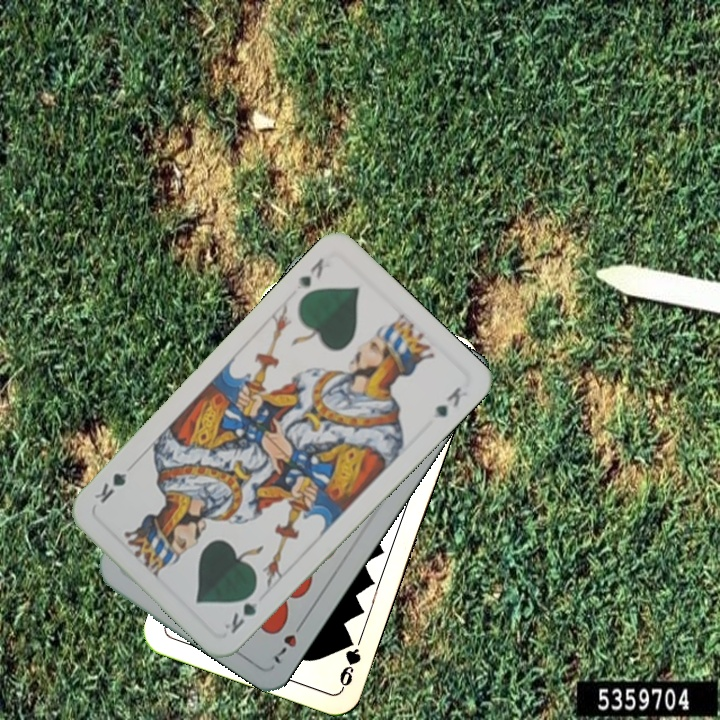G9: (335, 631, 364, 692)
GK: (220, 584, 260, 637), (292, 253, 327, 293)
H7: (270, 616, 308, 667)
